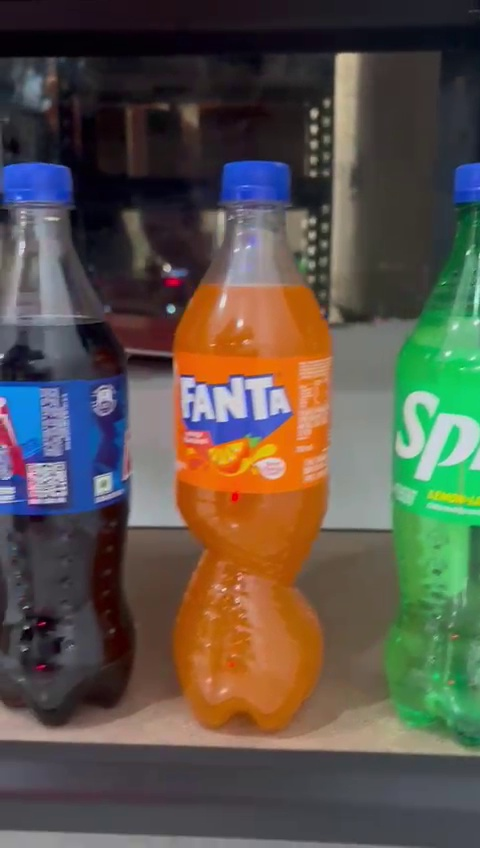Fanta: (155, 150, 349, 736)
Thums-up: (0, 160, 140, 741)
